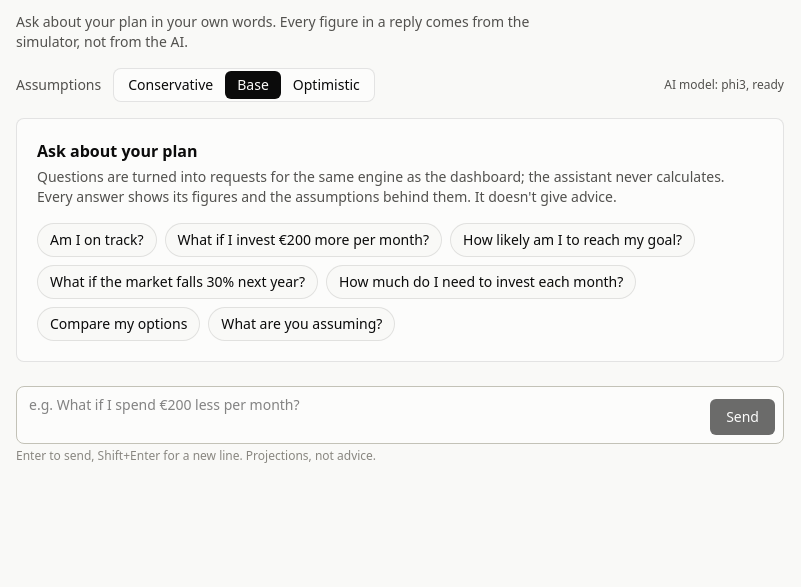
Scenario: Ask page › shows the reply, the engine's figures and how the question was understood
Type "What if I invest €200 more per month?" into the text box with id "chat-input" at (364, 415), box [25,395,702,435]
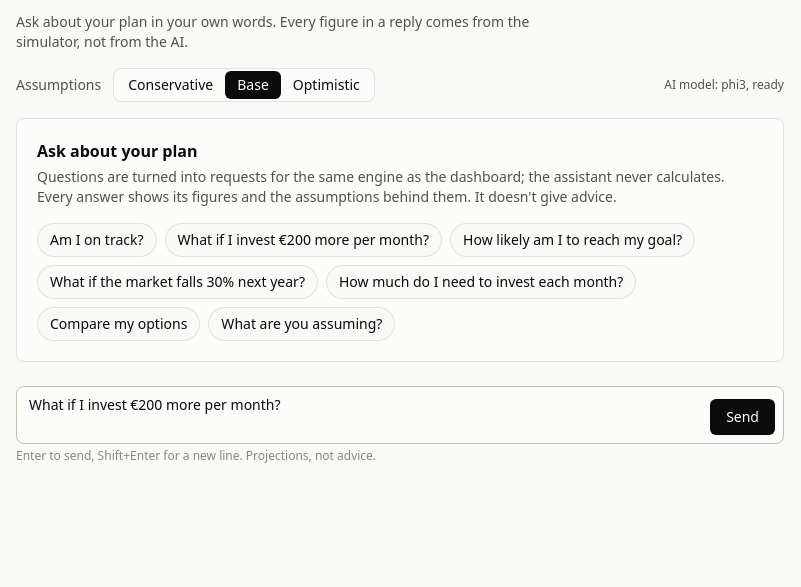
Submit the form, box [16,378,784,480]
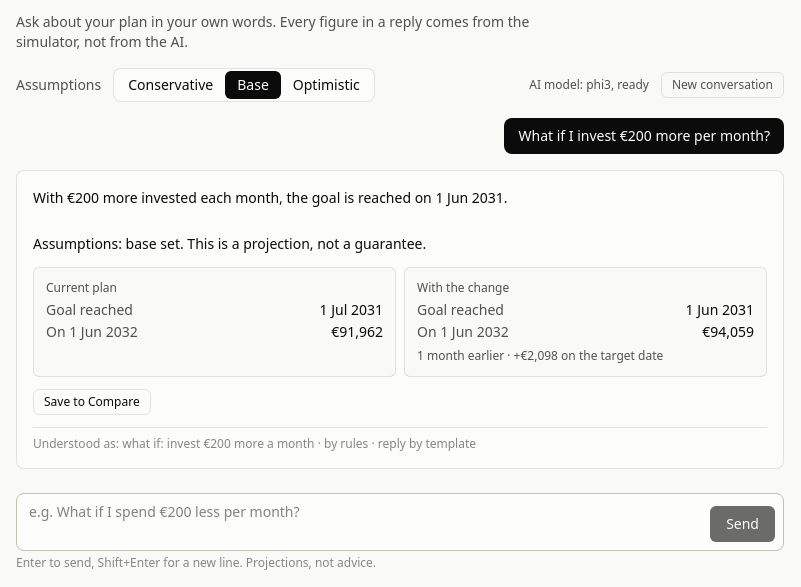
Expected: the element named "Reply: answered" shows "This is a projection, not a guarantee.", [33,188,508,252]
Expected: the element named "Reply: answered" shows "€91,962", [331,322,383,341]
Expected: the element named "Reply: answered" shows "€94,059", [702,322,754,341]
